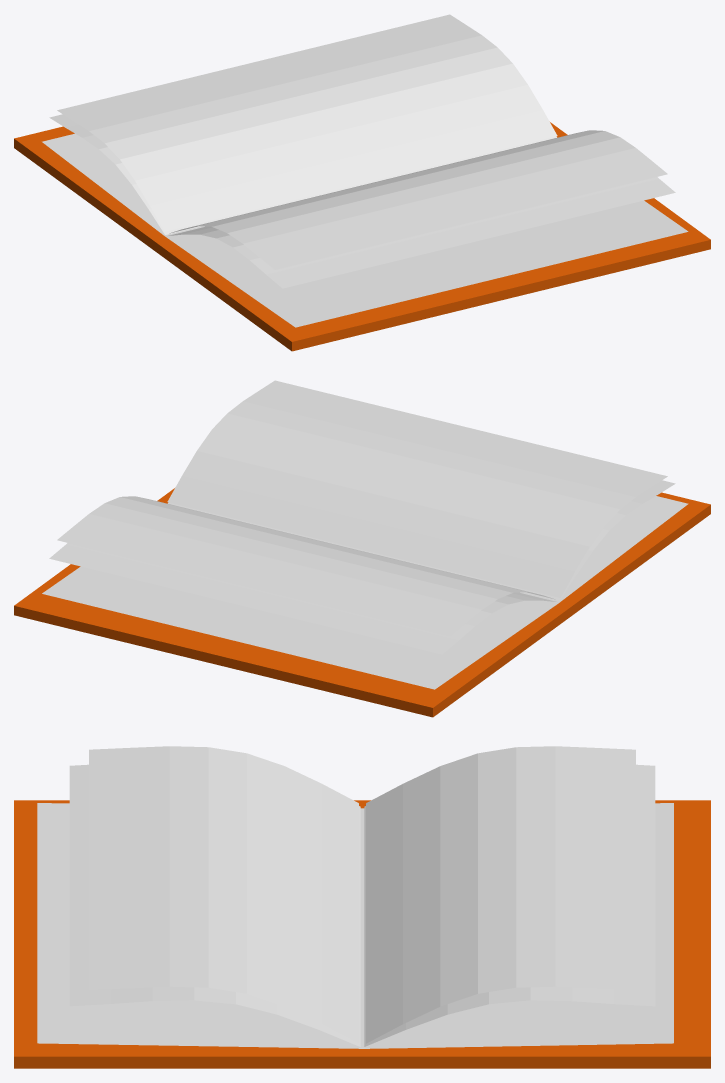
File: book_test.glb
3 views of the same model, one above another, from view 1: azimuth 30°, elevation 25°; view 2: azimuth 150°, elevation 25°; view 3: azimuth 270°, elevation 25° (orthographic). The views are drawn at different scales.
Parts seen in each view (by area): view 1: Cube.005, Cube.006, Cube.002, Cube, Cube.004, Cube.001, Cube.003; view 2: Cube.006, Cube.005, Cube, Cube.001, Cube.003, Cube.002, Cube.004; view 3: Cube.005, Cube.006, Cube, Cube.002, Cube.001, Cube.003, Cube.004.
Part boxes in pixels (<box>): Cube.005: <box>57,14,557,231</box>; Cube.006: <box>169,130,667,269</box>; Cube.002: <box>165,200,688,327</box>; Cube: <box>14,122,710,351</box>; Cube.004: <box>168,177,675,288</box>; Cube.001: <box>42,133,204,236</box>; Cube.003: <box>49,114,556,234</box>; Cube.006: <box>167,380,667,597</box>; Cube.005: <box>57,496,555,635</box>; Cube: <box>14,488,710,717</box>; Cube.001: <box>42,566,557,689</box>; Cube.003: <box>49,543,556,654</box>; Cube.002: <box>520,496,688,603</box>; Cube.004: <box>168,480,675,600</box>; Cube.005: <box>366,746,635,1043</box>; Cube.006: <box>89,746,358,1043</box>; Cube: <box>14,800,710,1068</box>; Cube.002: <box>37,803,364,1048</box>; Cube.001: <box>364,803,673,1048</box>; Cube.003: <box>364,764,655,1046</box>; Cube.004: <box>69,764,360,1046</box>.
Bounding box in the file's own units: 2.84 × 0.3827 × 3.26.
